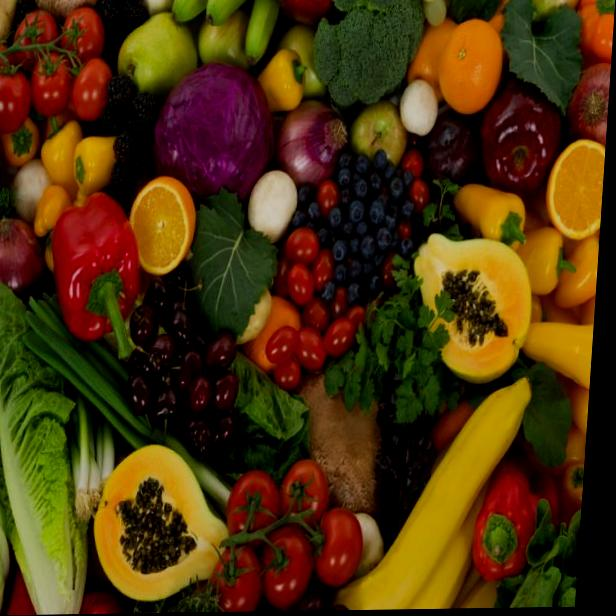Banana: (336, 368, 542, 610)
Orange: (429, 11, 516, 118)
Tomato: (258, 519, 320, 610), (222, 448, 272, 538), (305, 515, 365, 590), (27, 46, 72, 132), (210, 535, 260, 612), (69, 50, 117, 127), (60, 0, 111, 60), (282, 450, 324, 521), (0, 49, 35, 132), (10, 0, 59, 58), (279, 223, 328, 269), (265, 320, 307, 370), (294, 318, 328, 374), (281, 257, 321, 304), (261, 320, 301, 367), (321, 310, 360, 358)
